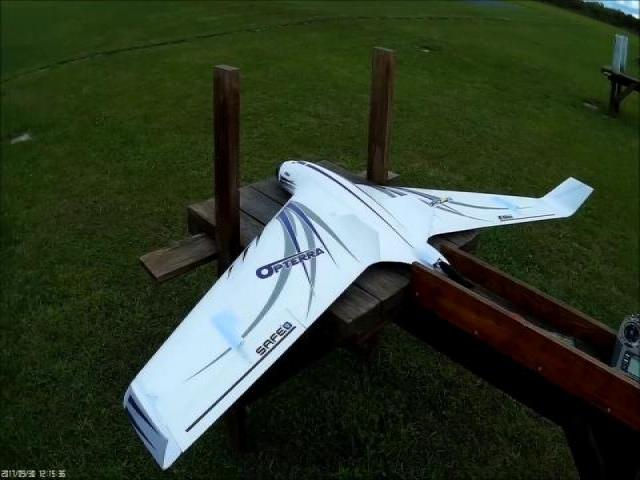flying wing: (118, 146, 595, 472)
